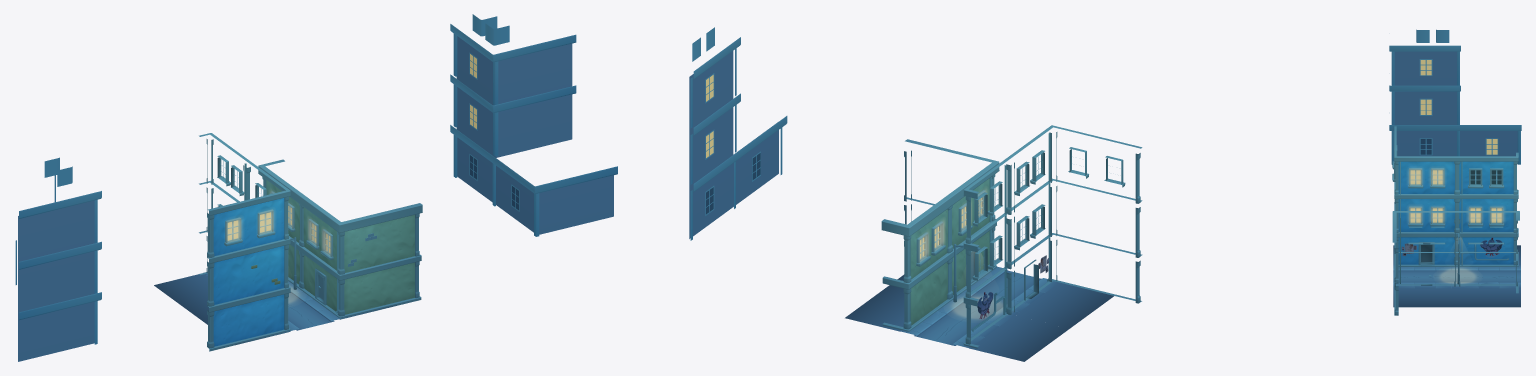
Rendered from UrbanBuilding01.prefab.glb.
The picture shows the model from 3 angles, left to right: view 1: azimuth 30°, elevation 25°; view 2: azimuth 150°, elevation 25°; view 3: azimuth 270°, elevation 25°; orthographic projection. The views are drawn at different scales.
Parts seen in each view (by area): view 1: FarBackBuilding02, Apartments04, Building02, UrbanBuilding01, Road02; view 2: FarBackBuilding02, Apartments04, Building02, Road02, UrbanBuilding01; view 3: Building02, FarBackBuilding02, Road02, UrbanBuilding01, Apartments04, LightPool, Graffiti04, LightGlowPlane (2), LightGlowPlane (3), LightGlowPlane (5), LightGlowPlane (4), LightGlowPlane (6) (+3 smaller).
Part boxes in pixels (x1,y1,x2,y2): FarBackBuilding02: [15, 14, 617, 361]; Apartments04: [258, 159, 422, 319]; Building02: [199, 133, 290, 351]; UrbanBuilding01: [194, 289, 396, 344]; Road02: [154, 272, 299, 314]; FarBackBuilding02: [689, 27, 787, 240]; Apartments04: [881, 139, 999, 331]; Building02: [963, 125, 1142, 348]; Road02: [845, 285, 1069, 361]; UrbanBuilding01: [897, 266, 1113, 328]; Building02: [1392, 126, 1518, 266]; FarBackBuilding02: [1389, 29, 1521, 164]; Road02: [1457, 245, 1520, 307]; UrbanBuilding01: [1393, 245, 1457, 307]; Apartments04: [1392, 211, 1519, 315]; LightPool: [1439, 268, 1476, 283]; Graffiti04: [1480, 237, 1502, 257]; LightGlowPlane (2): [1408, 168, 1422, 185]; LightGlowPlane (3): [1430, 168, 1444, 185]; LightGlowPlane (5): [1408, 206, 1422, 223]; LightGlowPlane (4): [1430, 207, 1444, 222]; LightGlowPlane (6): [1468, 207, 1482, 222].
Size of the model in its own units: 76.34 by 27.14 by 18.69.
7 materials, 6 textured.
